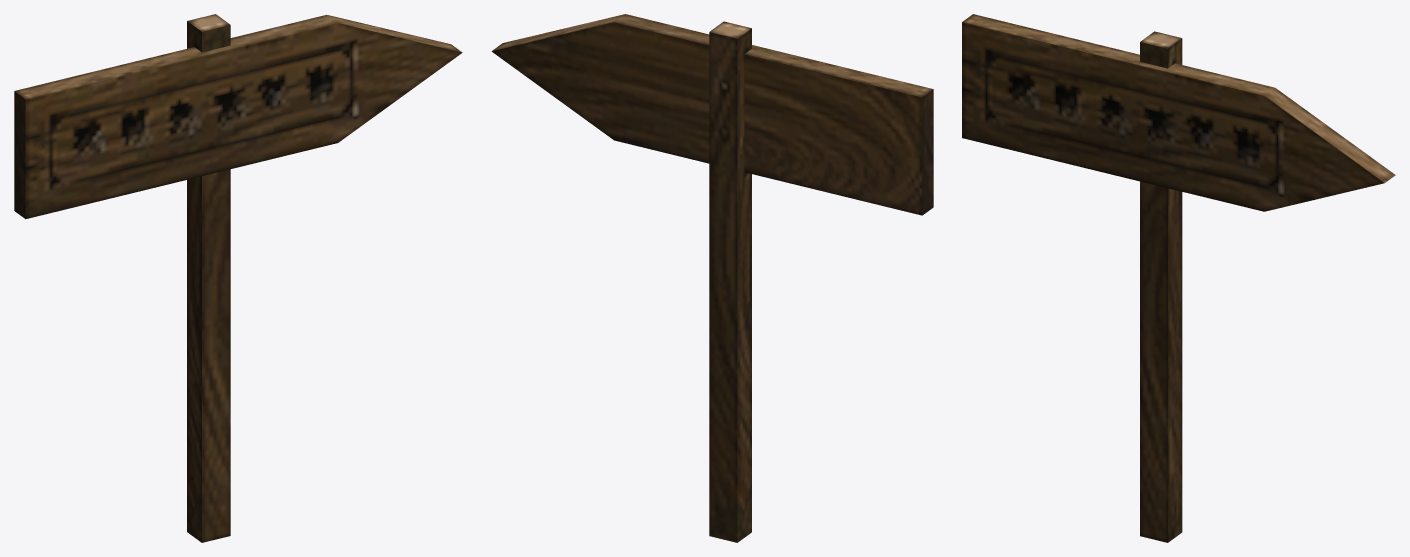
Rendered from sign.glb.
3 renders of one model, left to right at view 1: azimuth 30°, elevation 25°; view 2: azimuth 150°, elevation 25°; view 3: azimuth 330°, elevation 25°, orthographic. The views are drawn at different scales.
Parts seen in each view (by area): view 1: sign01.001; view 2: sign01.001; view 3: sign01.001.
Part boxes in pixels (box(x1,y1,x2,y2)): sign01.001: box(14, 14, 462, 542); sign01.001: box(491, 14, 933, 542); sign01.001: box(962, 14, 1395, 542).
Size of the model in its own units: 136 by 151 by 10.06.
1 material, 1 textured.
